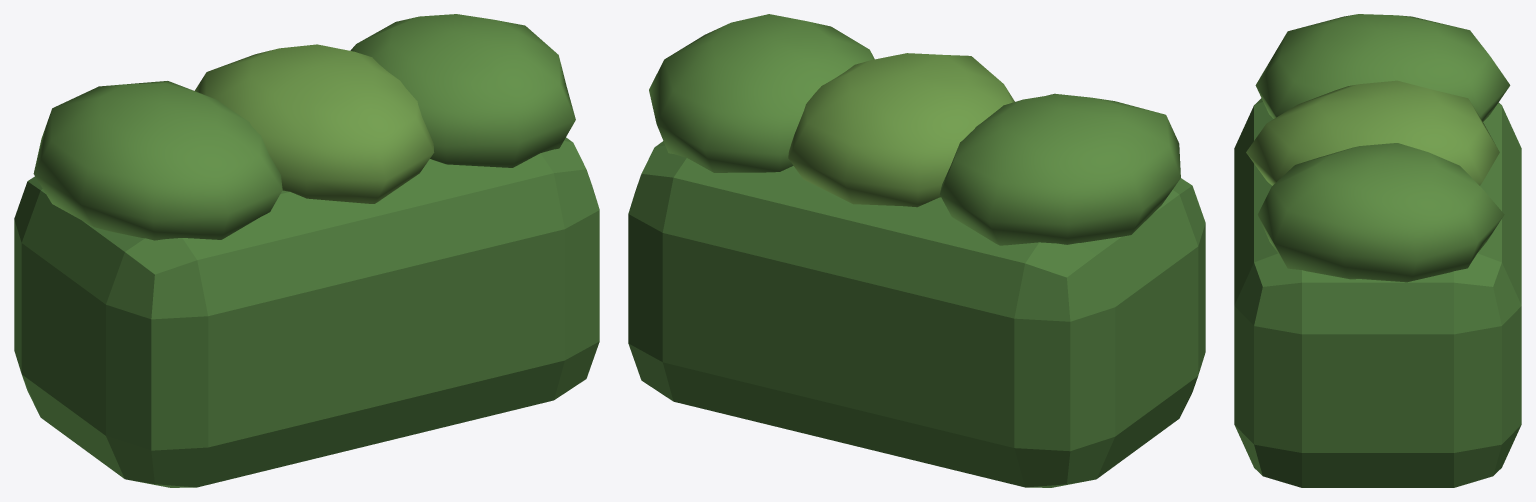
File: streetHedge.glb
3 renders of one model, left to right at view 1: azimuth 30°, elevation 25°; view 2: azimuth 150°, elevation 25°; view 3: azimuth 270°, elevation 25°, orthographic. The views are drawn at different scales.
Visible parts, largest first — view 1: hedge; view 2: hedge; view 3: hedge.
Part boxes in pixels (<box>): hedge: <box>14,14,599,487</box>; hedge: <box>628,14,1205,487</box>; hedge: <box>1234,14,1521,487</box>.
Size of the model in its own units: 1.55 by 1.02 by 0.85.
